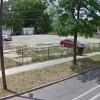Car: (54, 34, 87, 53)
